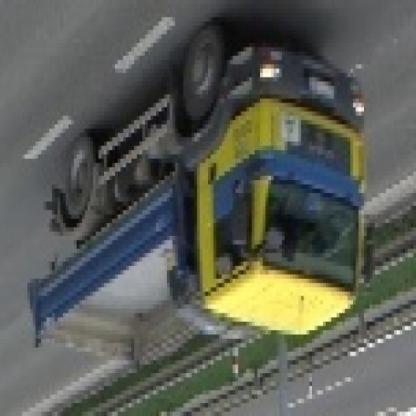truck: (34, 31, 373, 400)
